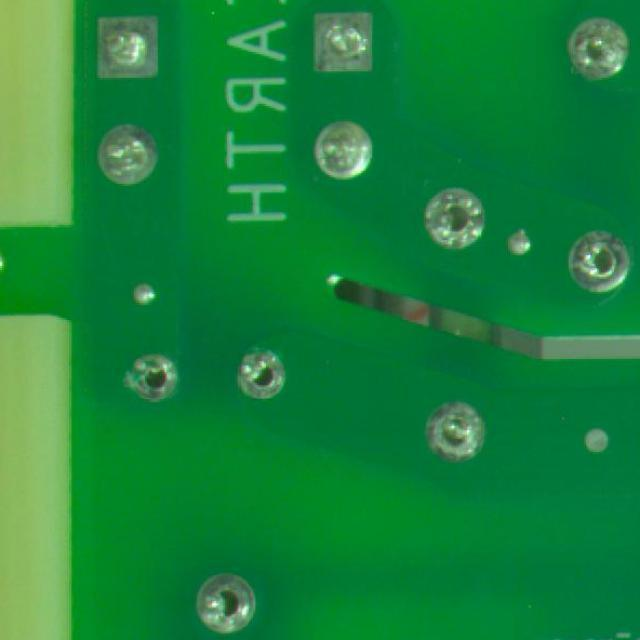Insufficient solder: (83, 6, 174, 79), (300, 3, 390, 75), (314, 111, 381, 200), (422, 396, 494, 468), (189, 569, 259, 640), (424, 186, 488, 260), (570, 9, 630, 86), (566, 234, 634, 300), (230, 342, 292, 414), (95, 126, 163, 190), (126, 348, 185, 404)
